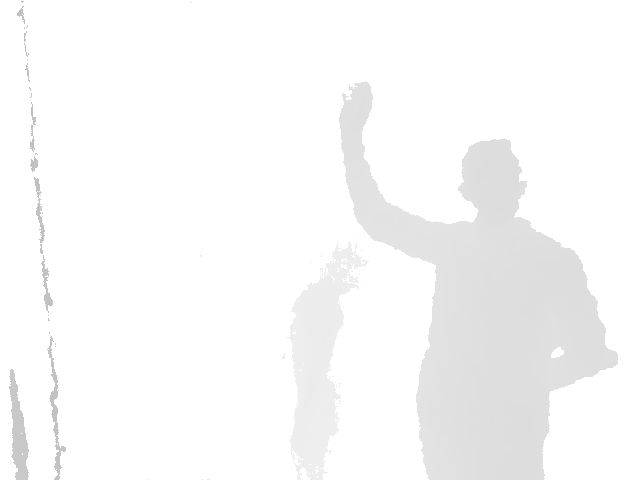hand: (337, 81, 374, 141)
head: (456, 138, 529, 216)
person: (338, 81, 619, 480)
